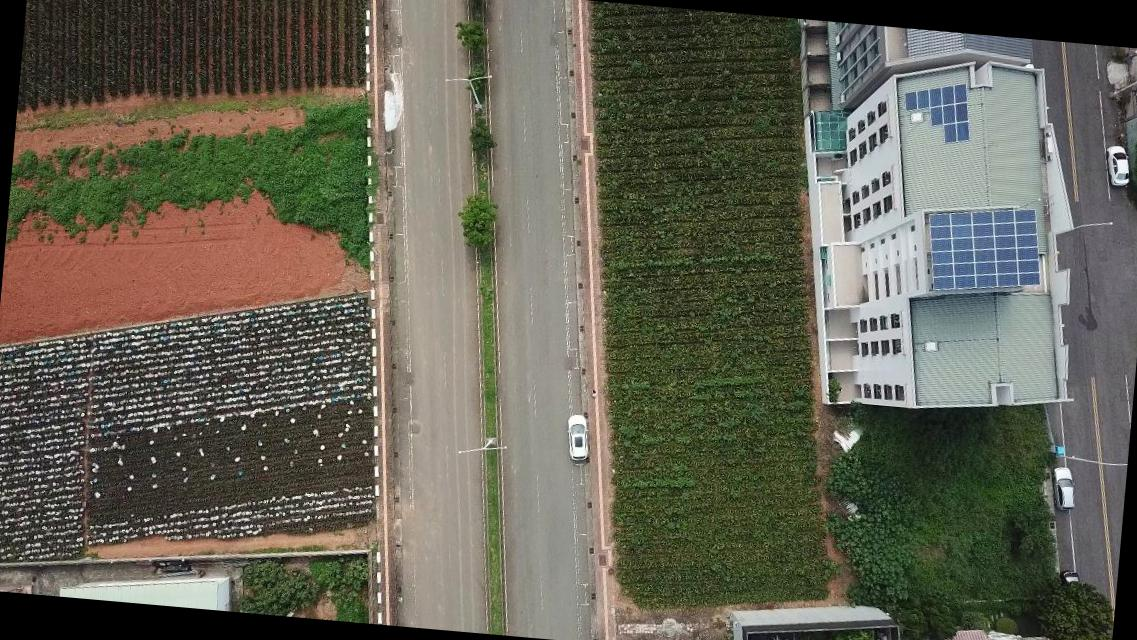vehicle: (563, 412, 593, 468), (1100, 143, 1132, 188), (1048, 465, 1078, 512)
